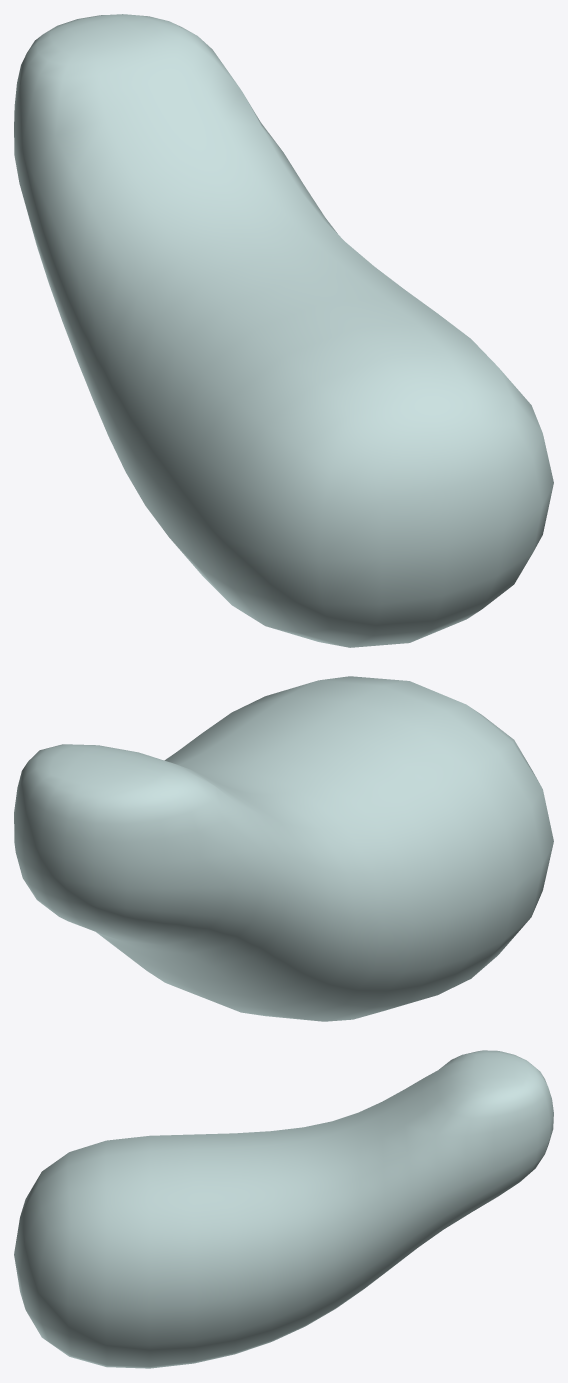
Rendered from Standard Quadruped.fbx.
3 views of the same model, one above another, from view 1: azimuth 30°, elevation 25°; view 2: azimuth 150°, elevation 25°; view 3: azimuth 270°, elevation 25° (orthographic). The views are drawn at different scales.
Visible parts, largest first — view 1: Cube.047; view 2: Cube.047; view 3: Cube.047.
Boxes of the visible parts, x1,y1,x2,y2 form: Cube.047: [14, 14, 553, 647]; Cube.047: [14, 676, 553, 1021]; Cube.047: [14, 1050, 553, 1368].
Bounding box in the file's own units: 338 × 396 × 680.
